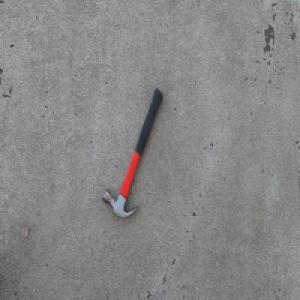Hammer: (102, 86, 163, 219)
